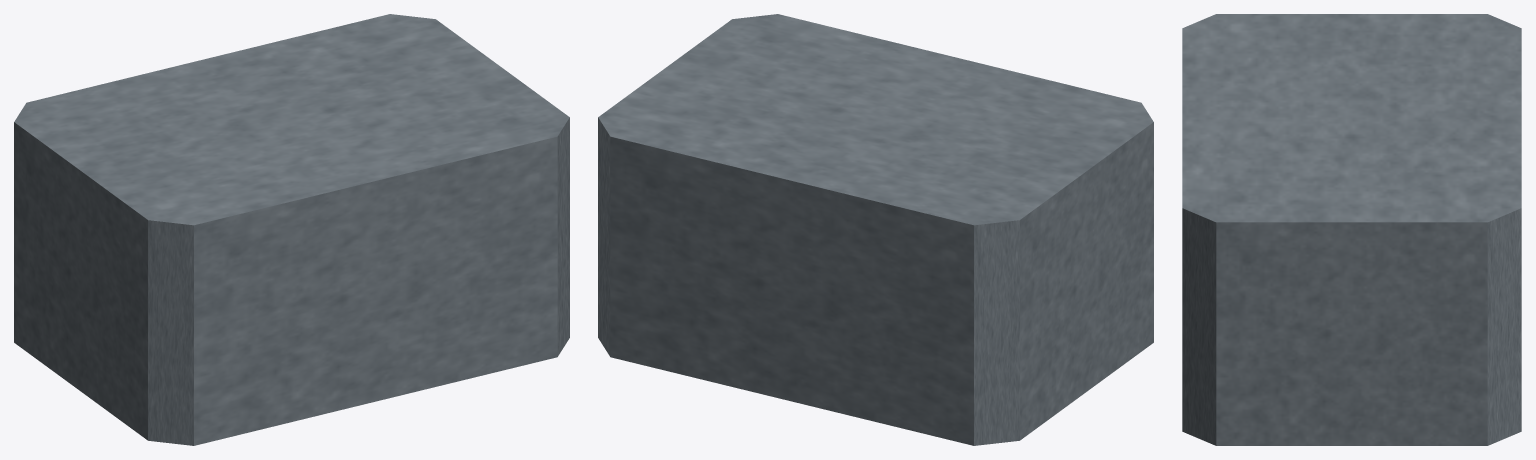
The model's file is dressed_block.glb.
3 renders of one model, left to right at view 1: azimuth 30°, elevation 25°; view 2: azimuth 150°, elevation 25°; view 3: azimuth 270°, elevation 25°, orthographic.
Parts seen in each view (by area): view 1: Frame; view 2: Frame; view 3: Frame.
Part boxes in pixels (bbox=[...]): Frame: bbox=[14, 14, 569, 445]; Frame: bbox=[598, 14, 1153, 445]; Frame: bbox=[1182, 14, 1521, 445].
Size of the model in its own units: 0.436 by 0.218 by 0.3.
Materials: 1 (1 with a texture image).
